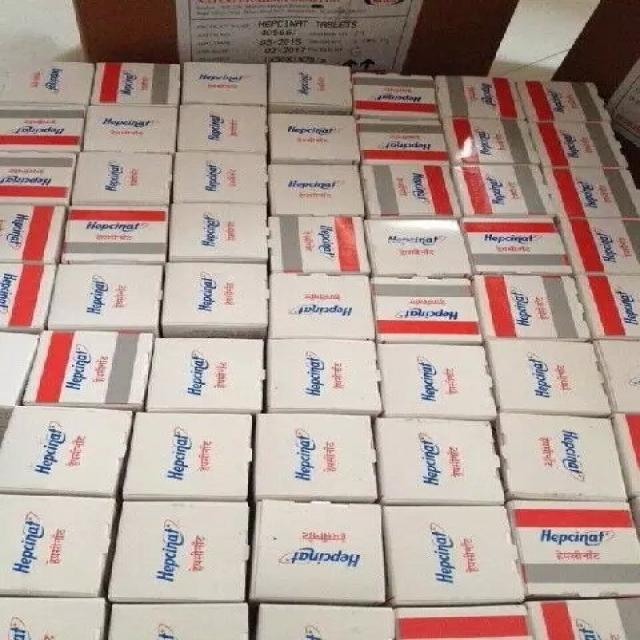box: (383, 505, 528, 606), (107, 501, 251, 602), (248, 499, 385, 605), (505, 499, 640, 599), (0, 493, 117, 597), (0, 406, 133, 497), (496, 414, 629, 501), (121, 413, 252, 501), (375, 417, 507, 503), (253, 414, 379, 503), (20, 330, 153, 410), (485, 340, 613, 416), (376, 344, 497, 421), (143, 338, 265, 413), (265, 338, 383, 415), (48, 263, 164, 335), (160, 263, 269, 337), (472, 275, 592, 340), (371, 276, 484, 344), (268, 272, 376, 339), (459, 216, 573, 274), (60, 205, 169, 263), (363, 220, 473, 277), (168, 203, 268, 262), (268, 217, 371, 273), (71, 150, 173, 205), (360, 165, 464, 218), (452, 164, 555, 217), (105, 602, 248, 640), (525, 596, 640, 640), (541, 167, 640, 218), (395, 603, 531, 640), (269, 165, 367, 216), (257, 604, 395, 640), (172, 153, 268, 203), (556, 218, 640, 275), (0, 100, 88, 154), (440, 117, 541, 164), (528, 122, 631, 168), (0, 331, 39, 451), (0, 596, 105, 640), (83, 105, 179, 153), (356, 118, 451, 166), (267, 114, 360, 163), (268, 61, 352, 115), (177, 104, 267, 153), (573, 275, 640, 339), (3, 58, 97, 103), (0, 263, 59, 333), (516, 80, 612, 123), (0, 151, 77, 204), (352, 72, 440, 118), (433, 75, 525, 119), (91, 62, 183, 106), (0, 203, 65, 264), (181, 63, 267, 105), (593, 339, 640, 413)
